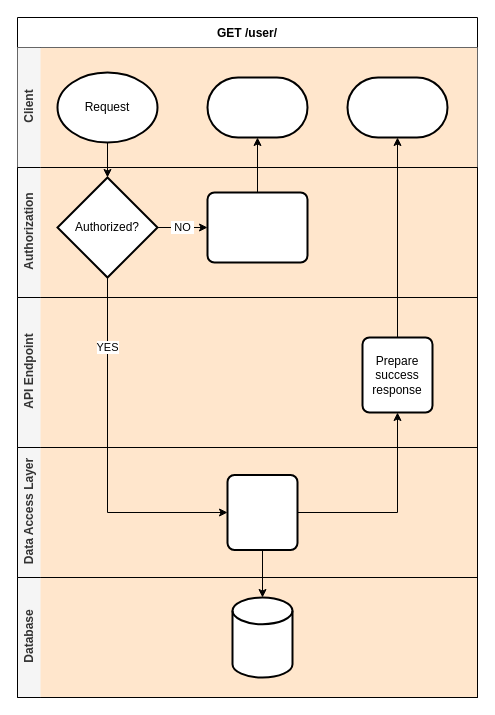
Some shapes in this 495 by 715 pixel diagram are drawn without their labels. Here are the shapes that lost their labels. From the top down, the centre of each, then its label:
At point 257,107: "401: Unauthorised".
At point 397,107: "200: Response".
At point 257,227: "Invalid Access Token".
At point 262,512: "Query Account Details".
At point 262,637: "DB".
